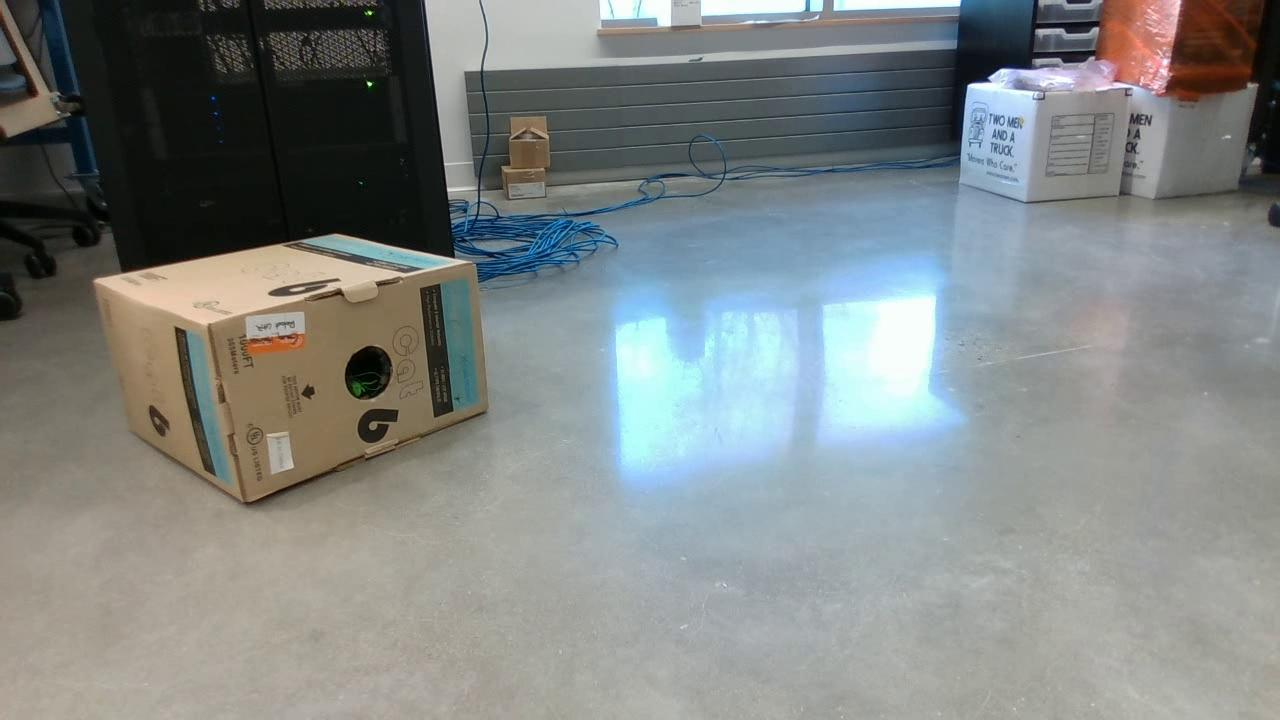grasshopper: (344, 372, 378, 395)
